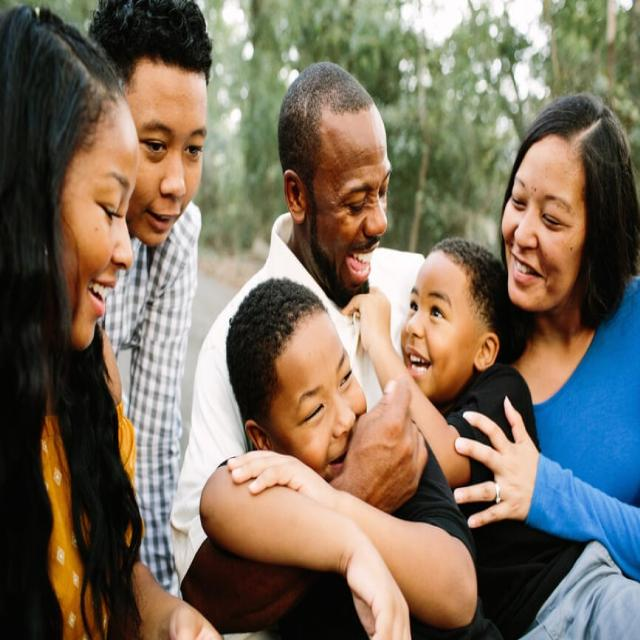adult: (170, 59, 427, 599), (3, 5, 221, 640), (455, 91, 640, 582), (90, 0, 213, 603)
child: (339, 233, 640, 640), (184, 274, 478, 640)
